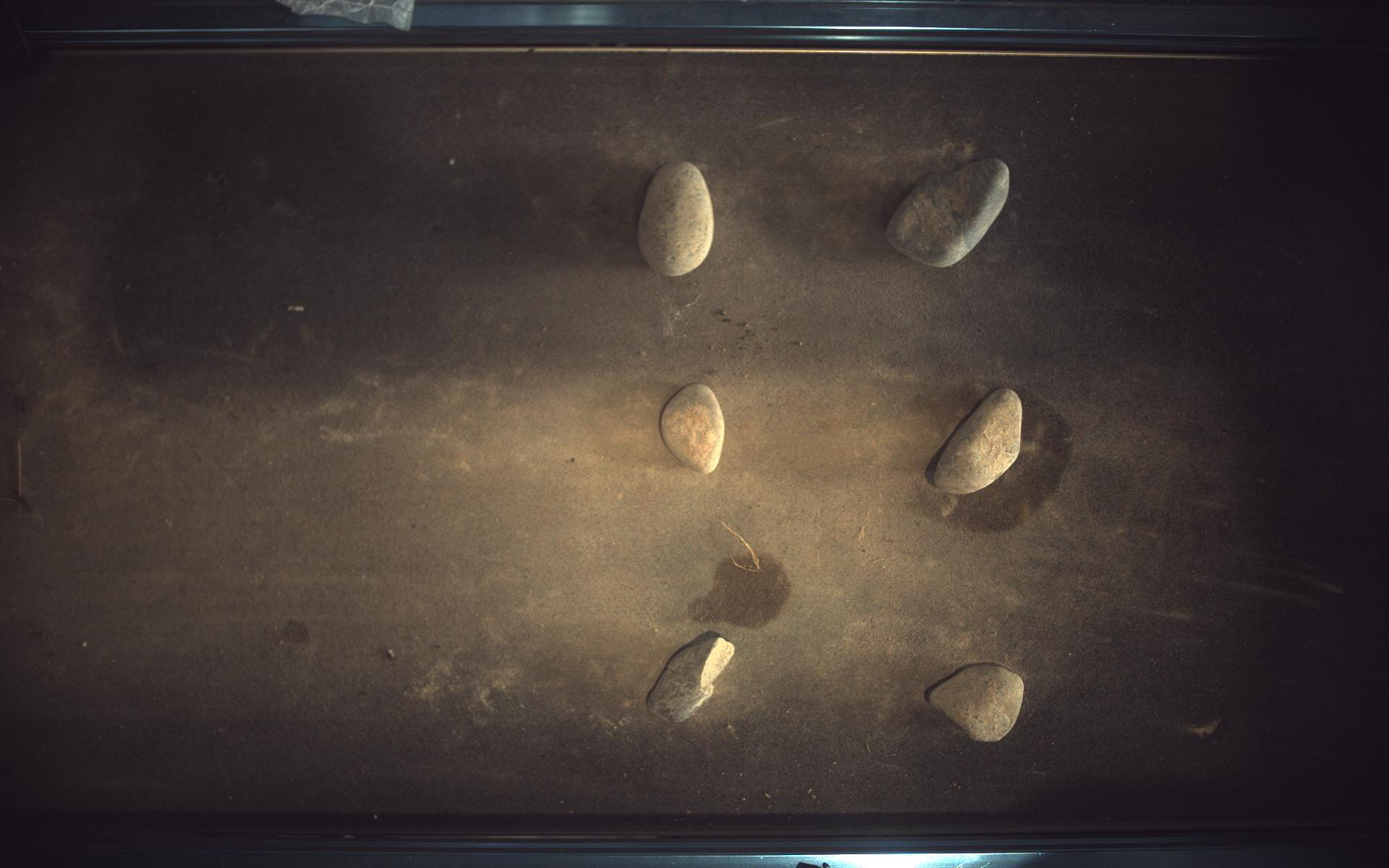stone: (888, 157, 1012, 267), (934, 388, 1024, 495), (639, 160, 715, 276), (648, 632, 735, 724), (928, 665, 1027, 743), (662, 383, 726, 474)
